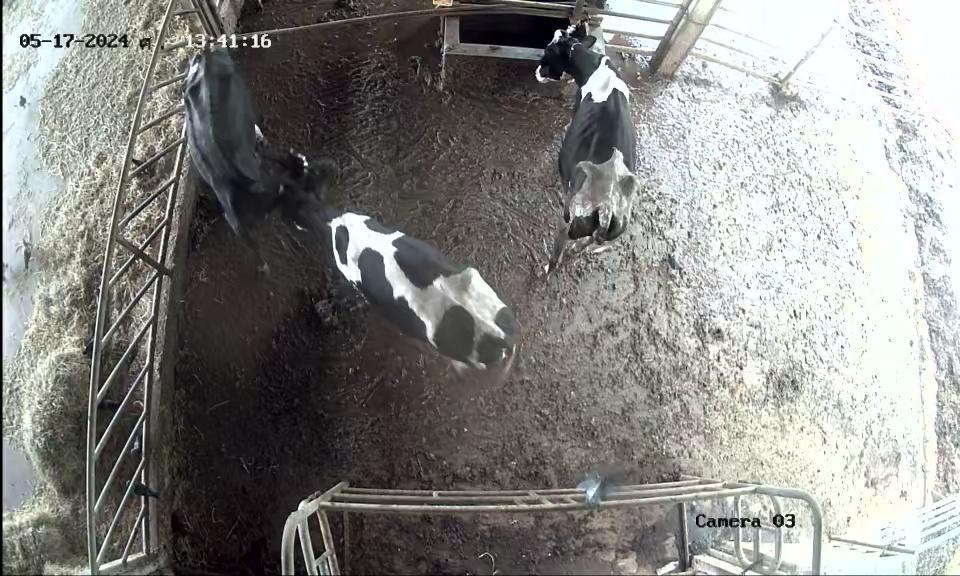stand: (278, 167, 527, 390), (177, 38, 300, 278), (530, 19, 647, 265)
